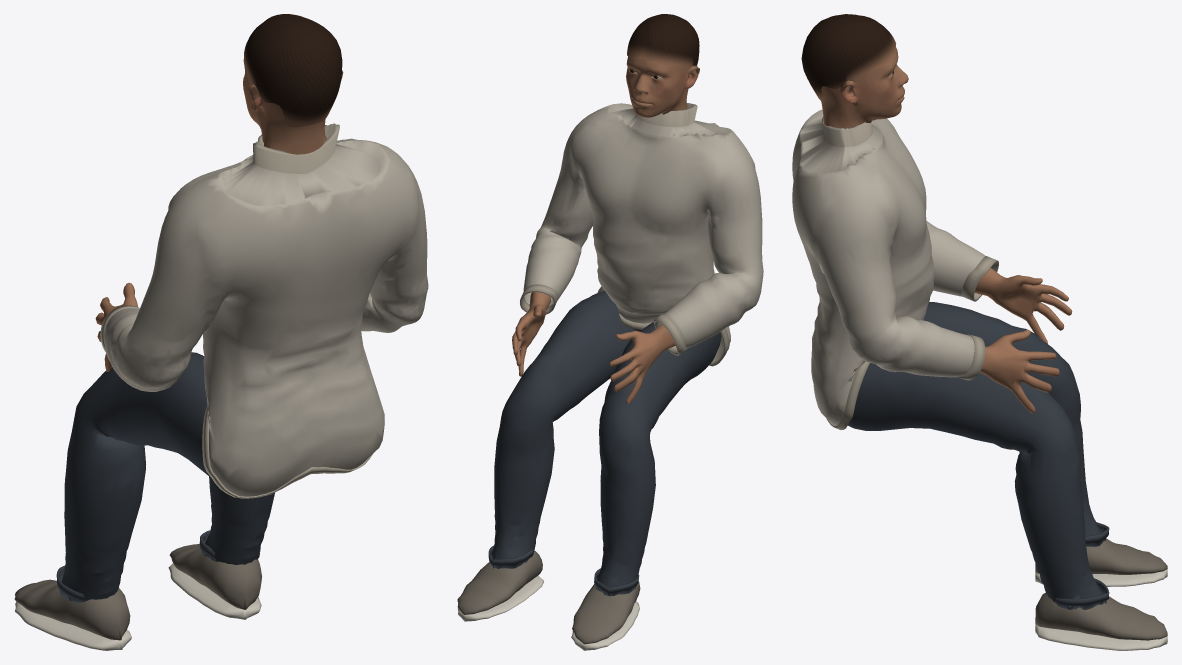
The model's file is person-seated-v2.glb.
The picture shows the model from 3 angles, left to right: view 1: azimuth 30°, elevation 25°; view 2: azimuth 150°, elevation 25°; view 3: azimuth 270°, elevation 25°; orthographic projection. The views are drawn at different scales.
Visible parts, largest first — view 1: Seated | Sweater • full sleeves, Seated | Trousers • relaxed taper, Seated | Hair | closely clipped tapered cut, Seated | Suede slip-on L, Seated | Skin • face neck hands, Seated | Suede slip-on R, Seated | Rubber sole L, Seated | Rubber sole R, Seated | Sweater • hem rib; view 2: Seated | Sweater • full sleeves, Seated | Trousers • relaxed taper, Seated | Skin • face neck hands, Seated | Hair | closely clipped tapered cut, Seated | Suede slip-on R, Seated | Suede slip-on L, Seated | Rubber sole R, Seated | Rubber sole L, Seated | Sweater • cuff L, Seated | Sweater • cuff R, Seated | Sweater • hem rib; view 3: Seated | Sweater • full sleeves, Seated | Trousers • relaxed taper, Seated | Skin • face neck hands, Seated | Hair | closely clipped tapered cut, Seated | Suede slip-on R, Seated | Suede slip-on L, Seated | Rubber sole R, Seated | Rubber sole L, Seated | Sweater • cuff L, Seated | Sweater • hem rib, Seated | Sweater • cuff R.
Boxes of the visible parts, x1=… form: Seated | Sweater • full sleeves: x1=103, y1=123, x2=428, y2=496; Seated | Trousers • relaxed taper: x1=59, y1=352, x2=274, y2=602; Seated | Hair | closely clipped tapered cut: x1=244, y1=14, x2=343, y2=127; Seated | Suede slip-on L: x1=14, y1=579, x2=130, y2=640; Seated | Skin • face neck hands: x1=95, y1=57, x2=341, y2=371; Seated | Suede slip-on R: x1=169, y1=544, x2=261, y2=609; Seated | Rubber sole L: x1=15, y1=602, x2=131, y2=650; Seated | Rubber sole R: x1=168, y1=563, x2=261, y2=619; Seated | Sweater • hem rib: x1=202, y1=405, x2=372, y2=498; Seated | Sweater • full sleeves: x1=523, y1=103, x2=763, y2=361; Seated | Trousers • relaxed taper: x1=490, y1=290, x2=721, y2=596; Seated | Skin • face neck hands: x1=512, y1=56, x2=698, y2=404; Seated | Hair | closely clipped tapered cut: x1=627, y1=14, x2=699, y2=74; Seated | Suede slip-on R: x1=457, y1=550, x2=542, y2=614; Seated | Suede slip-on L: x1=572, y1=581, x2=640, y2=644; Seated | Rubber sole R: x1=457, y1=575, x2=543, y2=621; Seated | Rubber sole L: x1=571, y1=601, x2=639, y2=650; Seated | Sweater • cuff L: x1=653, y1=314, x2=686, y2=355; Seated | Sweater • cuff R: x1=520, y1=284, x2=557, y2=314; Seated | Sweater • hem rib: x1=597, y1=286, x2=729, y2=366; Seated | Sweater • full sleeves: x1=792, y1=109, x2=985, y2=425; Seated | Trousers • relaxed taper: x1=848, y1=302, x2=1106, y2=609; Seated | Skin • face neck hands: x1=821, y1=47, x2=1072, y2=413; Seated | Hair | closely clipped tapered cut: x1=801, y1=14, x2=896, y2=102; Seated | Suede slip-on R: x1=1035, y1=592, x2=1167, y2=640; Seated | Suede slip-on L: x1=1035, y1=538, x2=1167, y2=574; Seated | Rubber sole R: x1=1035, y1=625, x2=1167, y2=650; Seated | Rubber sole L: x1=1035, y1=569, x2=1167, y2=586; Seated | Sweater • cuff L: x1=961, y1=256, x2=998, y2=301; Seated | Sweater • hem rib: x1=826, y1=362, x2=869, y2=429; Seated | Sweater • cuff R: x1=956, y1=334, x2=985, y2=380.
Size of the model in its own units: 0.6032 by 1.36 by 0.7795.
Materials: 10 (1 with a texture image).
